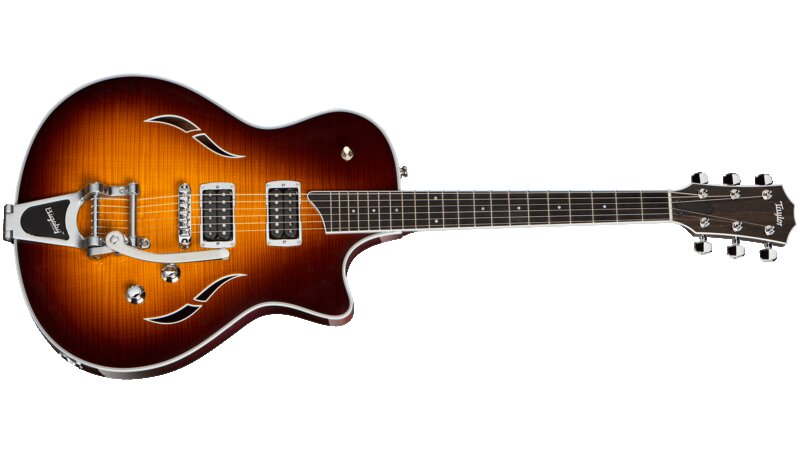ElectricGuitar: (19, 75, 798, 380)
